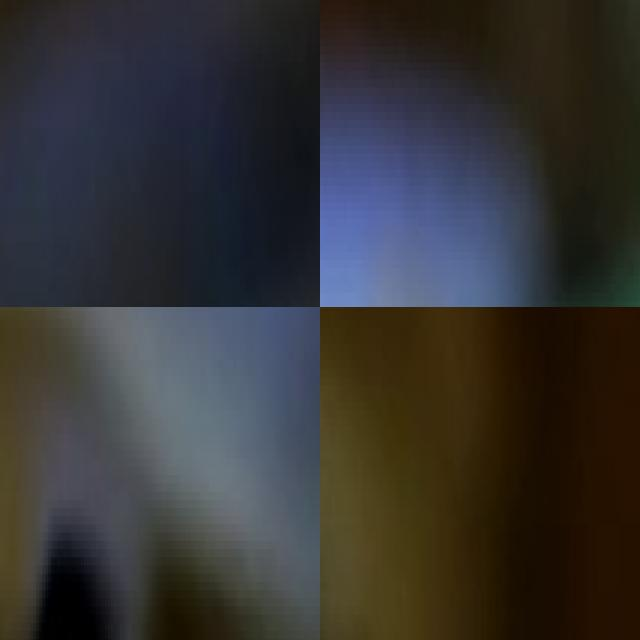fish: (0, 0, 320, 307), (0, 307, 320, 598)
